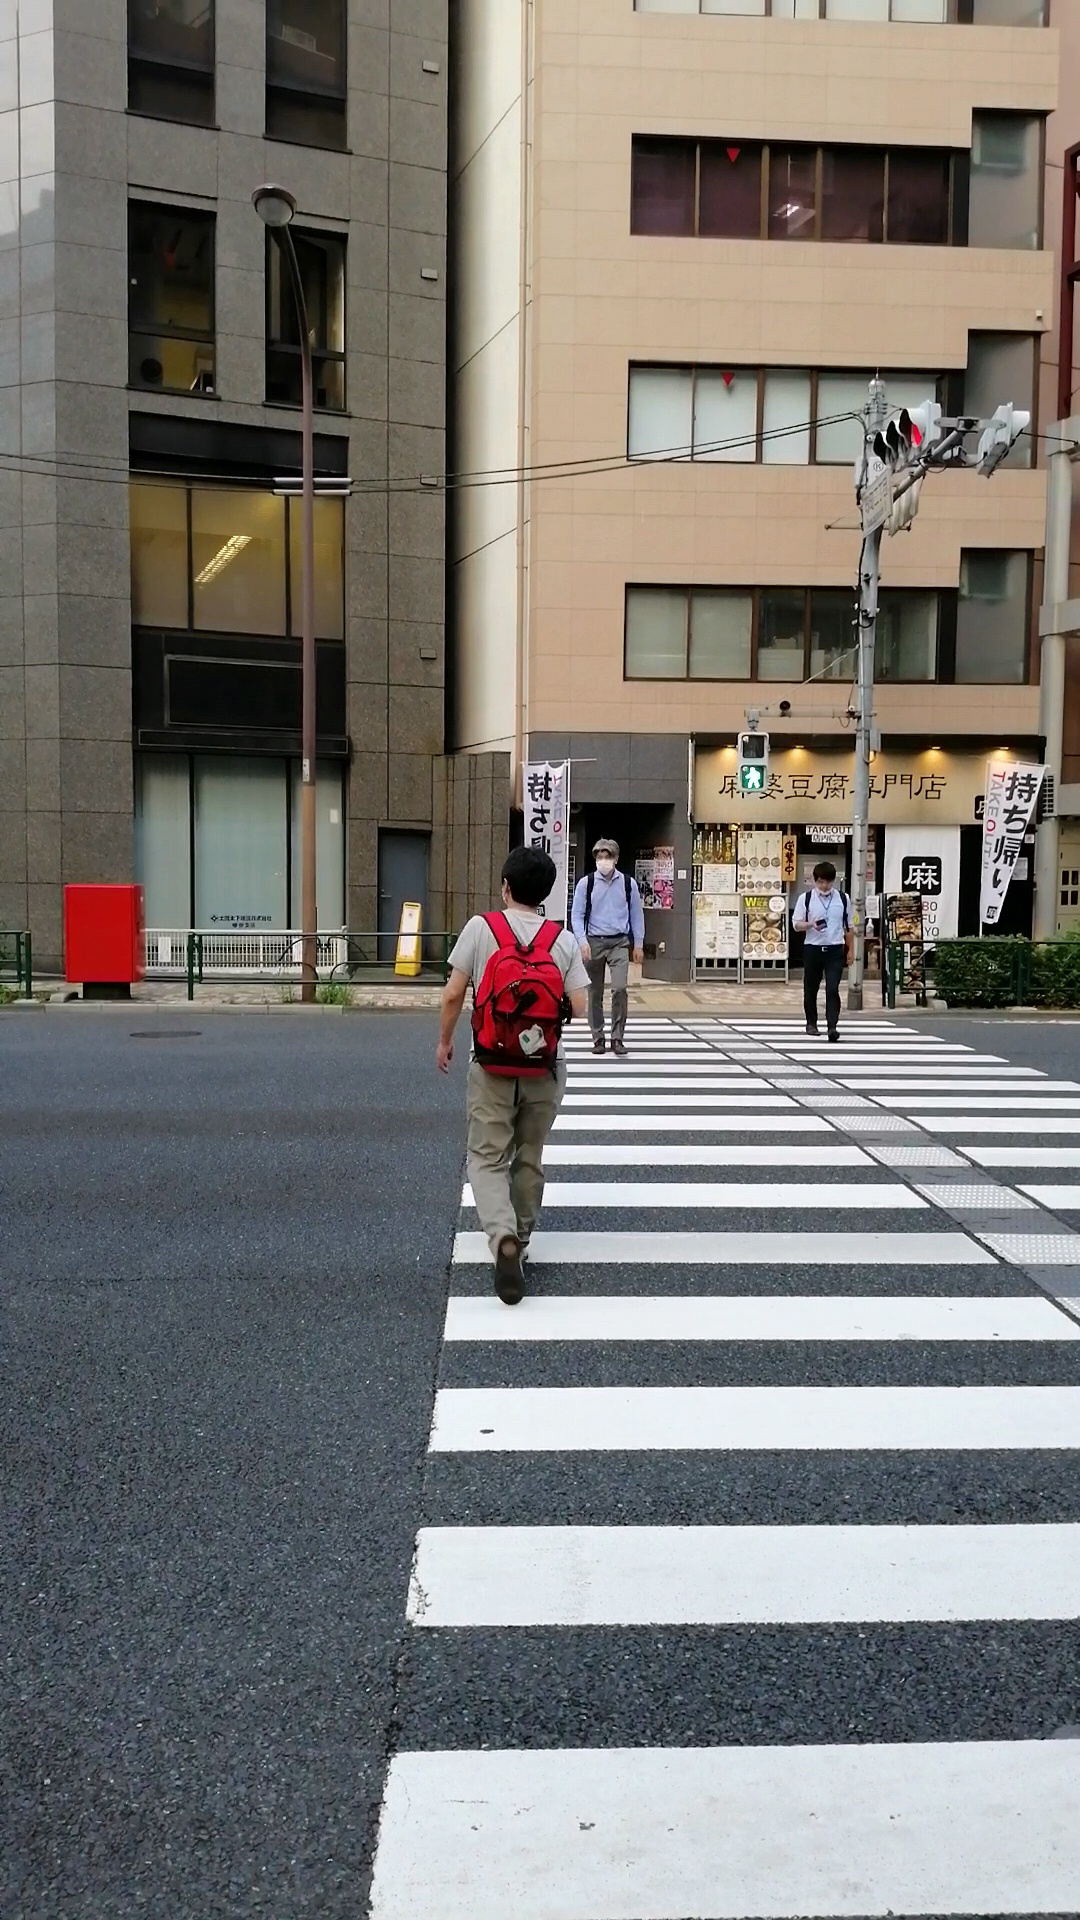green: (735, 731, 767, 793)
